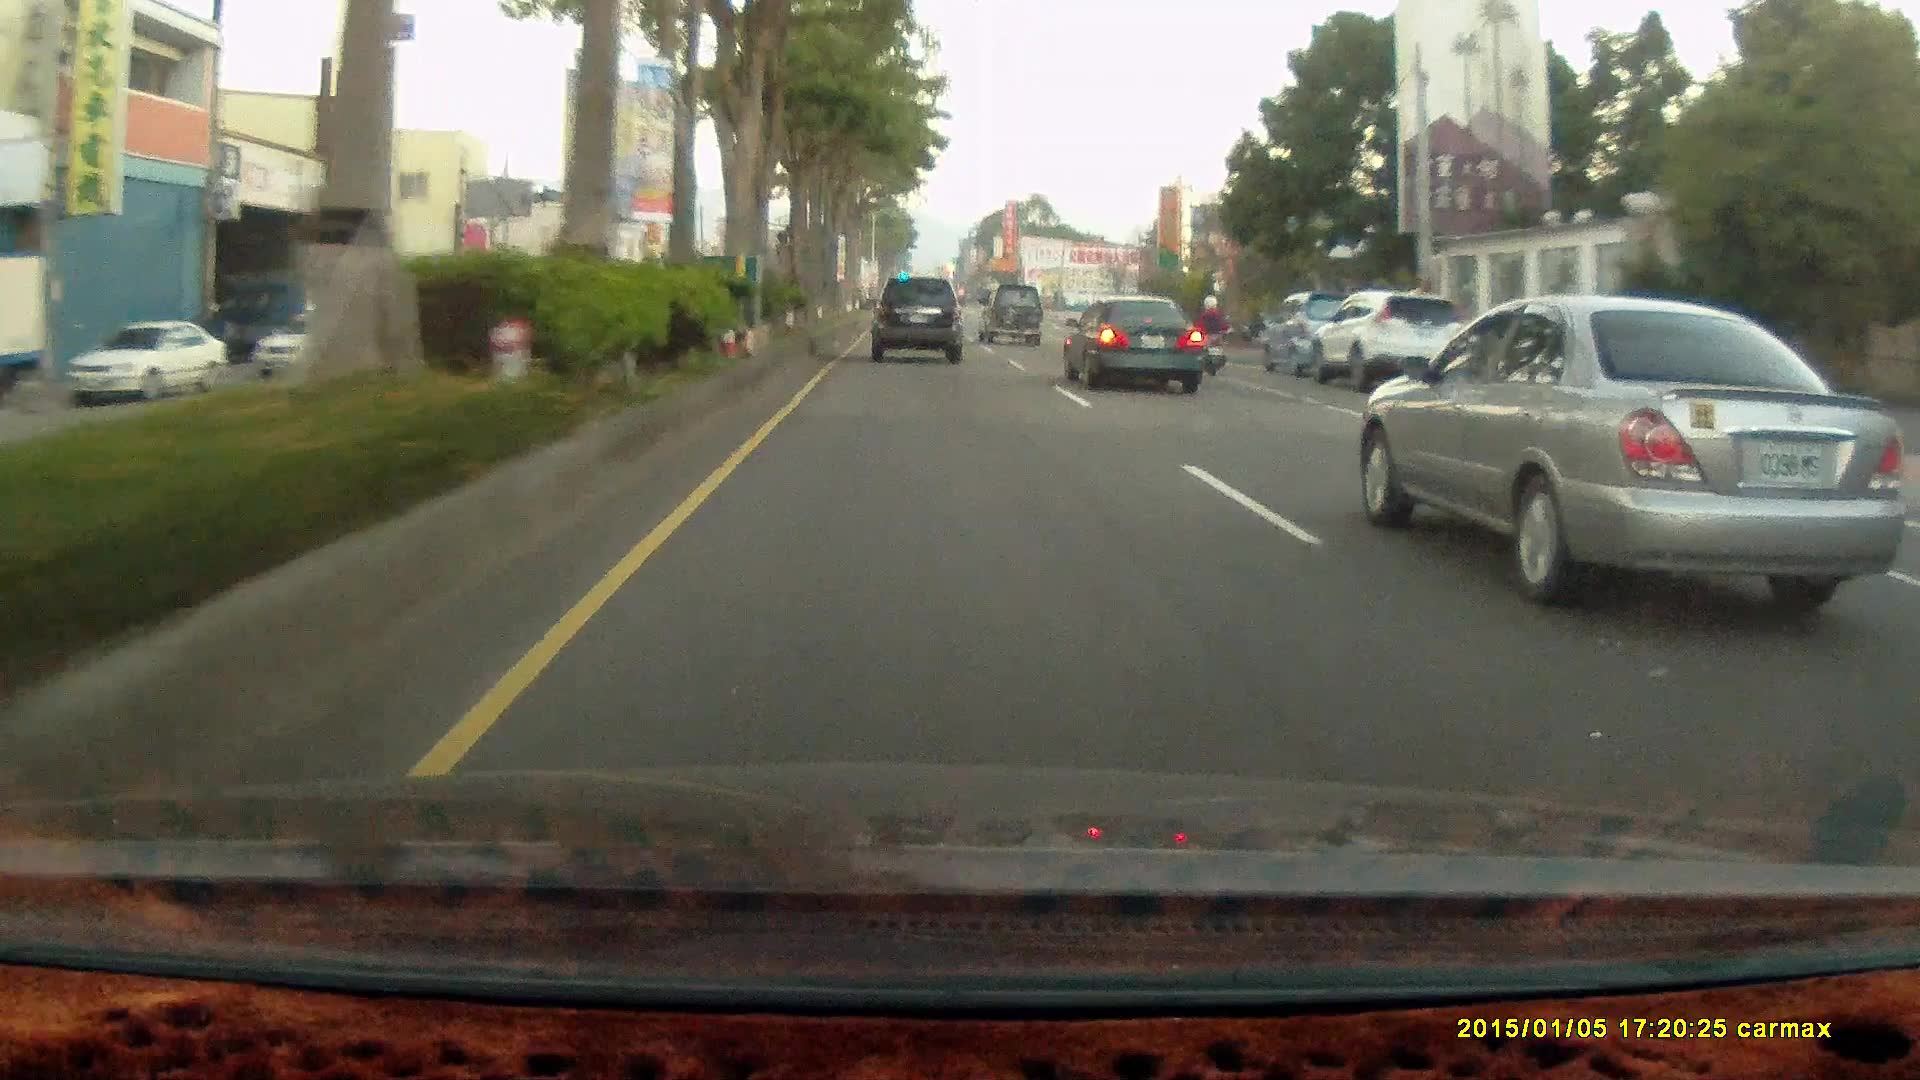rider: (1191, 292, 1229, 376)
vehicle: (1359, 299, 1903, 600), (1308, 291, 1470, 389), (1060, 294, 1203, 393), (1064, 297, 1210, 392), (65, 321, 227, 405), (71, 321, 226, 406), (1259, 288, 1374, 375), (867, 271, 968, 366), (866, 275, 962, 363), (0, 252, 51, 406), (1, 253, 52, 407), (979, 284, 1045, 349), (978, 283, 1042, 345)
